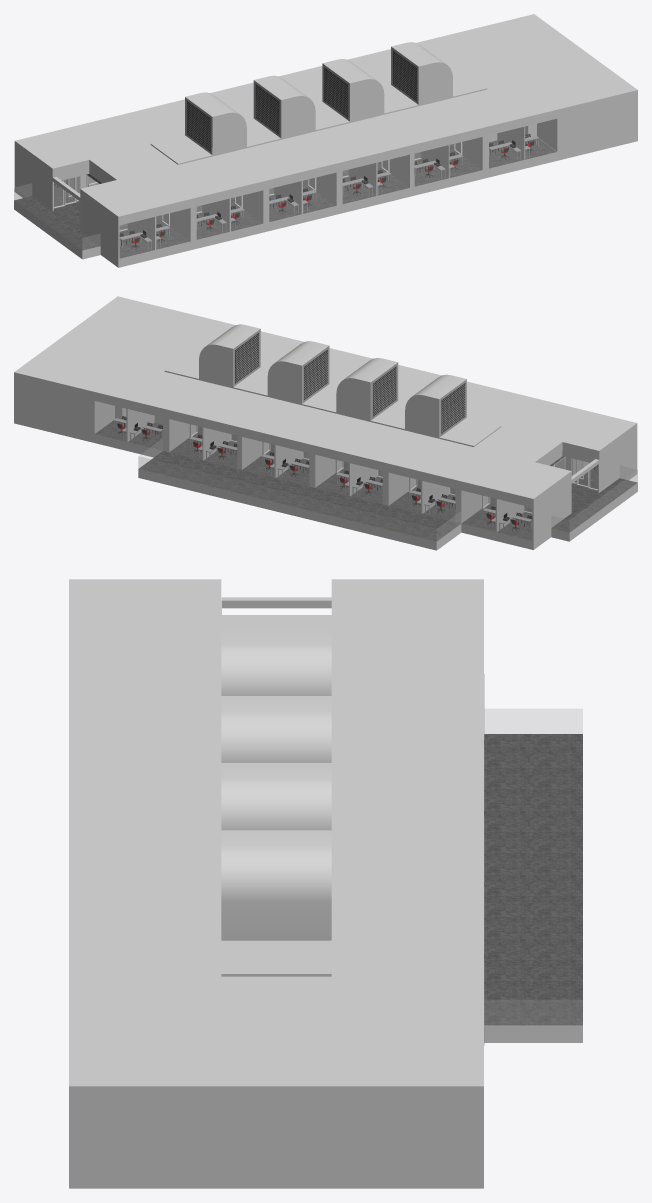
File: EISCFifthFloor.glb
The picture shows the model from 3 angles, top to bottom: view 1: azimuth 30°, elevation 25°; view 2: azimuth 150°, elevation 25°; view 3: azimuth 270°, elevation 25°; orthographic projection. The views are drawn at different scales.
Parts seen in each view (by area): view 1: TopFifthFloor, StructureFifthFloor, FifthFloor; view 2: TopFifthFloor, StructureFifthFloor, FifthFloor; view 3: TopFifthFloor, StructureFifthFloor, FifthFloor.
Boxes of the visible parts, box(x1,y1,x2,y2) form: TopFifthFloor: box(14, 14, 637, 225); StructureFifthFloor: box(14, 99, 637, 267); FifthFloor: box(14, 137, 556, 258); TopFifthFloor: box(14, 296, 637, 507); StructureFifthFloor: box(14, 381, 637, 550); FifthFloor: box(95, 419, 637, 541); TopFifthFloor: box(69, 579, 483, 1104); StructureFifthFloor: box(69, 597, 582, 1188); FifthFloor: box(484, 734, 582, 1025).
Bounding box in the file's own units: 44 × 7.1 × 18.2.
Materials: 21 (11 with a texture image).
